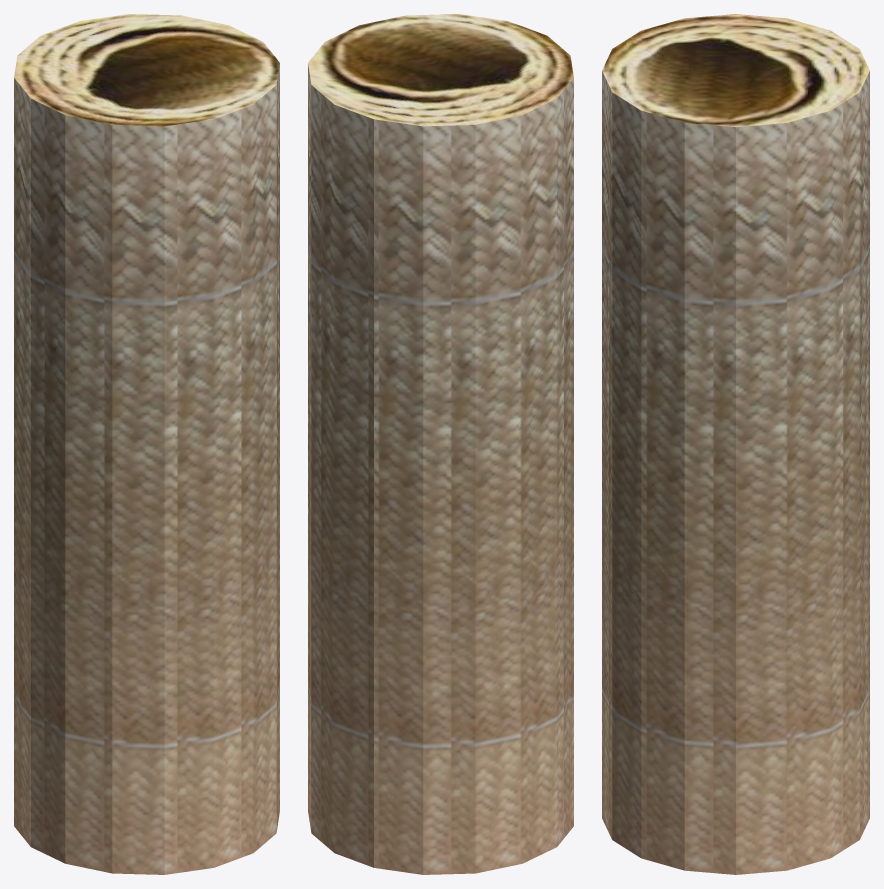
File: matrolled.glb
The picture shows the model from 3 angles, left to right: view 1: azimuth 30°, elevation 25°; view 2: azimuth 150°, elevation 25°; view 3: azimuth 270°, elevation 25°; orthographic projection.
Visible parts, largest first — view 1: Cylinder, Cylinder.001; view 2: Cylinder, Cylinder.001; view 3: Cylinder, Cylinder.001.
Part boxes in pixels (x1,y1,x2,y2): Cylinder: (14, 64, 279, 874); Cylinder.001: (14, 14, 279, 126); Cylinder: (308, 64, 573, 874); Cylinder.001: (308, 14, 573, 126); Cylinder: (602, 71, 869, 874); Cylinder.001: (602, 14, 869, 127).
Bounding box in the file's own units: 2 × 6.16 × 2.
2 materials, 2 textured.
